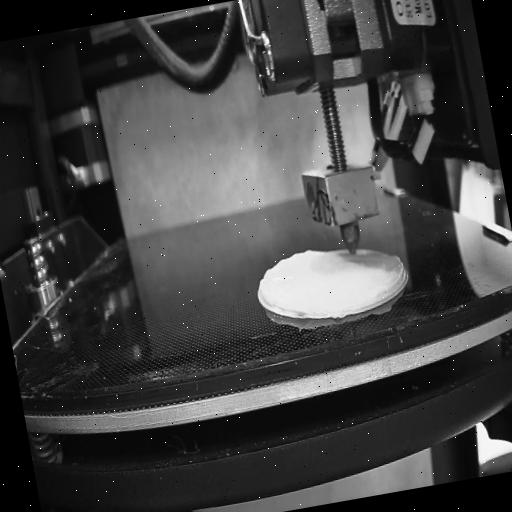over_extrusion: (252, 244, 328, 310), (374, 251, 410, 296)
